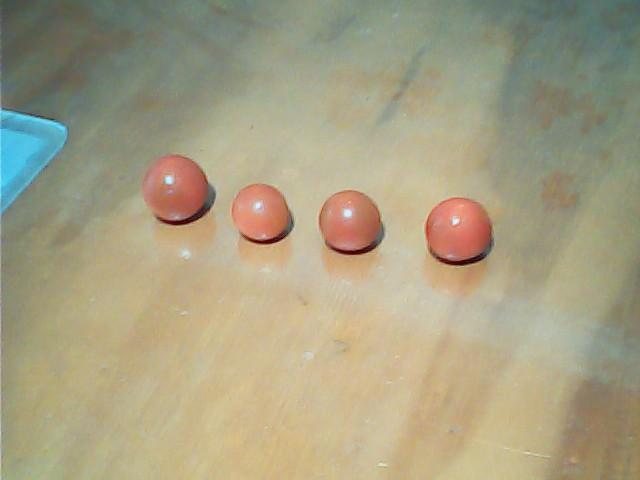maduro: (138, 154, 209, 219), (425, 197, 493, 263), (317, 190, 381, 252), (231, 183, 289, 239)
